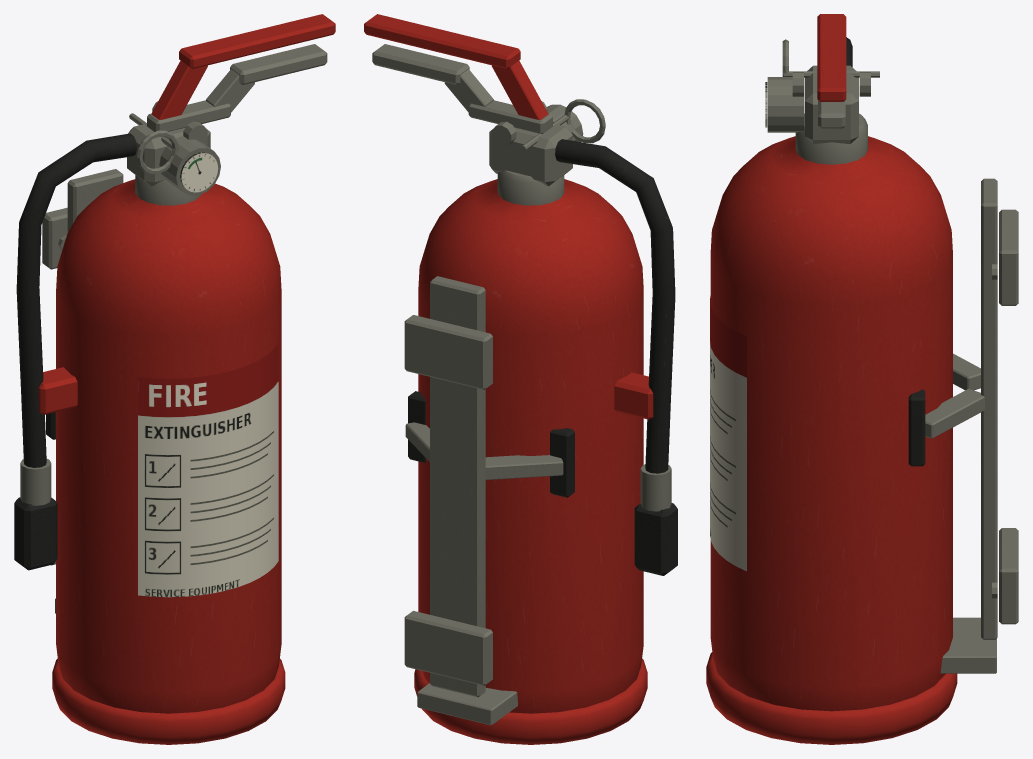
Rendered from motel_fire_extinguisher.glb.
3 renders of one model, left to right at view 1: azimuth 30°, elevation 25°; view 2: azimuth 150°, elevation 25°; view 3: azimuth 270°, elevation 25°, orthographic. The views are drawn at different scales.
Visible parts, largest first — view 1: motel_fire_extinguisher; view 2: motel_fire_extinguisher; view 3: motel_fire_extinguisher.
Part boxes in pixels (bbox=[...]): motel_fire_extinguisher: bbox=[14, 14, 335, 744]; motel_fire_extinguisher: bbox=[364, 14, 677, 744]; motel_fire_extinguisher: bbox=[706, 14, 1018, 744].
Bounding box in the file's own units: 0.2746 × 0.5455 × 0.224.
1 material, 1 textured.
